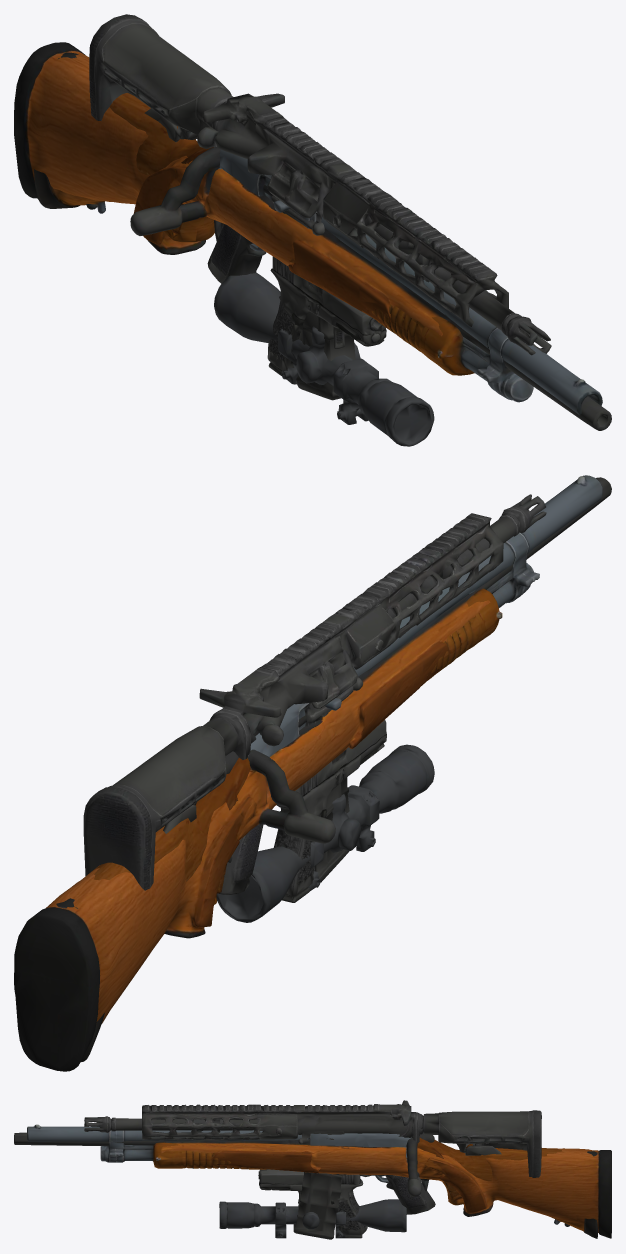
The model's file is guns.glb.
3 views of the same model, one above another, from view 1: azimuth 30°, elevation 25°; view 2: azimuth 150°, elevation 25°; view 3: azimuth 270°, elevation 25° (orthographic). The views are drawn at different scales.
Visible parts, largest first — view 1: ar, sniper, shotgun, scope, pistol; view 2: sniper, ar, shotgun, scope, pistol; view 3: ar, sniper, shotgun, scope, pistol.
Part boxes in pixels (x1,y1,x2,y2): ar: [89, 14, 551, 400]; sniper: [14, 42, 611, 430]; shotgun: [34, 52, 602, 415]; scope: [214, 272, 434, 446]; pistol: [267, 256, 386, 375]; sniper: [14, 477, 611, 1071]; ar: [83, 494, 546, 894]; shotgun: [56, 475, 602, 1061]; scope: [216, 744, 434, 922]; pistol: [273, 720, 386, 902]; ar: [84, 1100, 541, 1239]; sniper: [14, 1132, 611, 1238]; shotgun: [27, 1124, 597, 1238]; scope: [219, 1199, 406, 1238]; pistol: [258, 1169, 367, 1238].
Bounding box in the file's own units: 0.2409 × 0.276 × 1.15.
5 materials, 5 textured.
